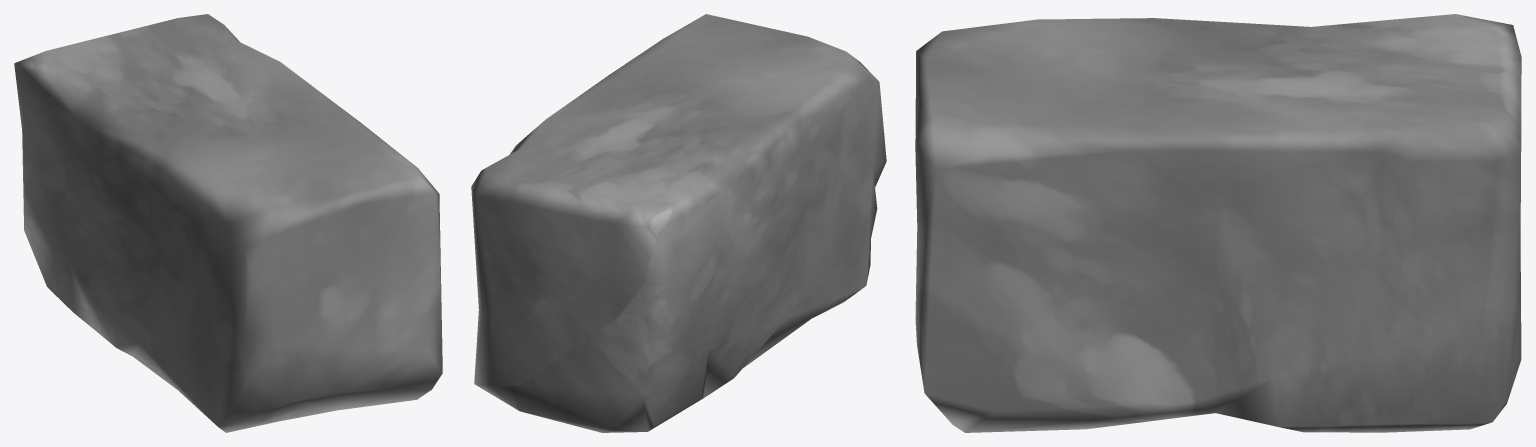
Rendered from SM_StoneBrick_03a.fbx.
The picture shows the model from 3 angles, left to right: view 1: azimuth 30°, elevation 25°; view 2: azimuth 150°, elevation 25°; view 3: azimuth 270°, elevation 25°; orthographic projection. The views are drawn at different scales.
Parts seen in each view (by area): view 1: SM_StoneBrick_03a_LOD0; view 2: SM_StoneBrick_03a_LOD0; view 3: SM_StoneBrick_03a_LOD0.
Part boxes in pixels (x1,y1,x2,y2): SM_StoneBrick_03a_LOD0: (14,14,442,432); SM_StoneBrick_03a_LOD0: (471,14,886,432); SM_StoneBrick_03a_LOD0: (915,14,1521,432).
Bounding box in the file's own units: 43.54 × 86.69 × 48.15.
